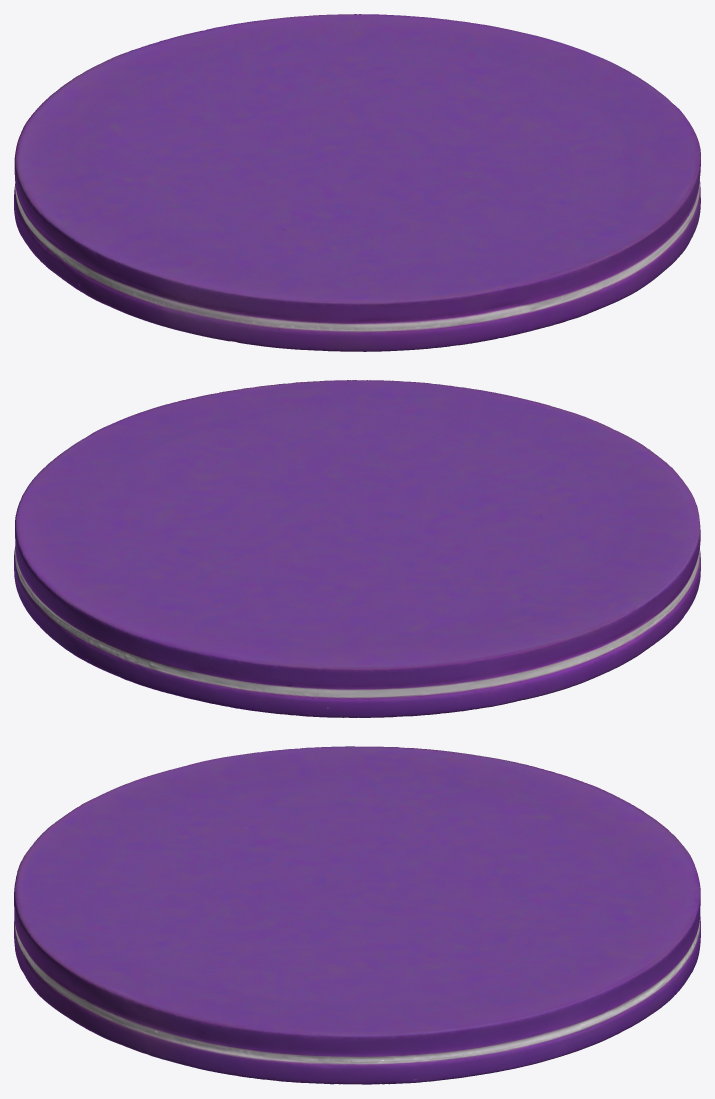
Rendered from pedestal.glb.
The picture shows the model from 3 angles, top to bottom: view 1: azimuth 30°, elevation 25°; view 2: azimuth 150°, elevation 25°; view 3: azimuth 270°, elevation 25°; orthographic projection.
Size of the model in its own units: 2 by 0.1625 by 2.
Materials: 1 (1 with a texture image).
